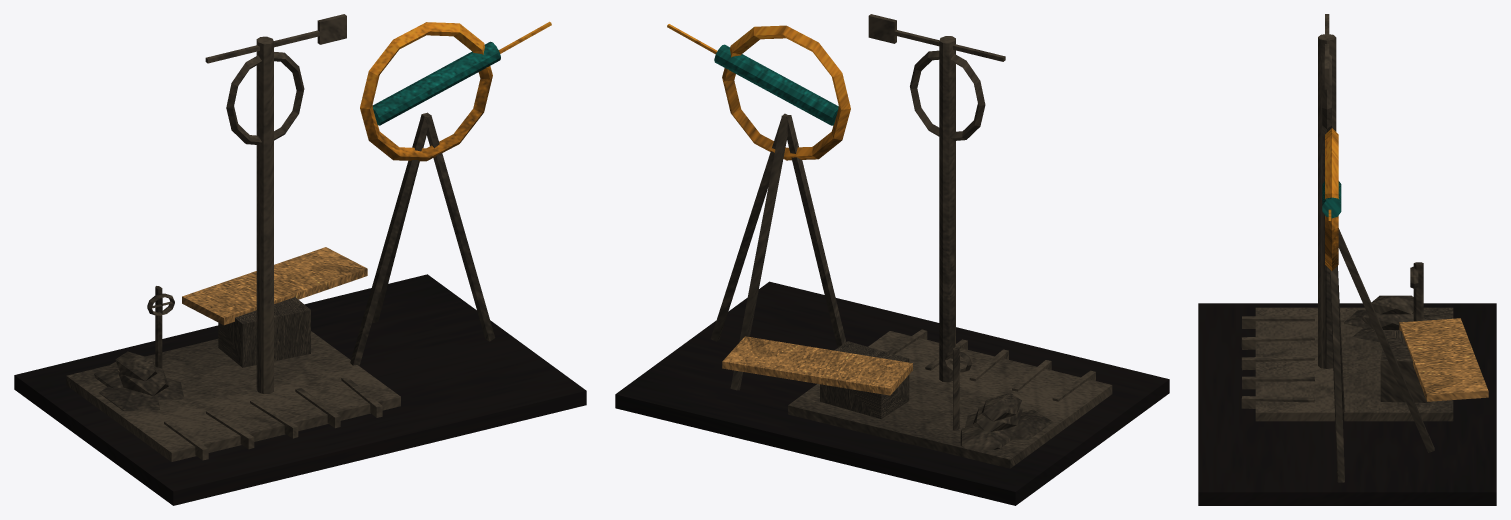
Rendered from south-survey-rig.glb.
The picture shows the model from 3 angles, left to right: view 1: azimuth 30°, elevation 25°; view 2: azimuth 150°, elevation 25°; view 3: azimuth 270°, elevation 25°; orthographic projection. The views are drawn at different scales.
Parts seen in each view (by area): view 1: south-survey-rig; view 2: south-survey-rig; view 3: south-survey-rig.
Part boxes in pixels (x1,y1,x2,y2): south-survey-rig: [14, 14, 586, 505]; south-survey-rig: [615, 14, 1169, 505]; south-survey-rig: [1198, 14, 1496, 505].
Size of the model in its own units: 7.81 by 6.36 by 4.8.
Materials: 1 (1 with a texture image).
